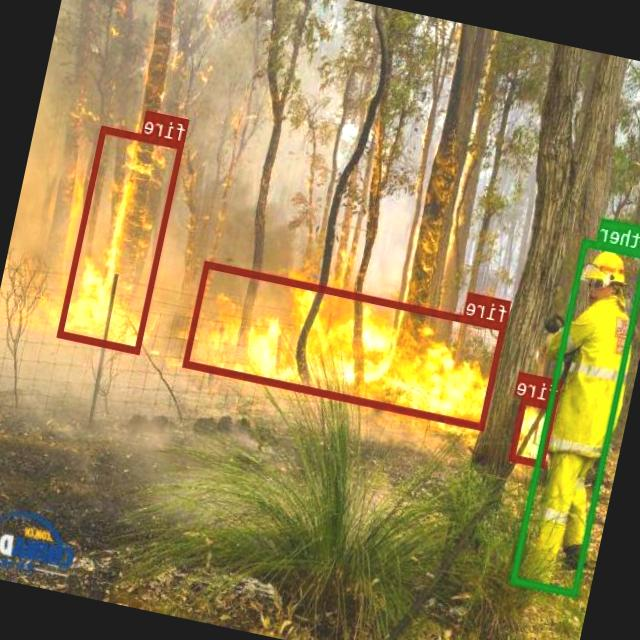fire: (184, 260, 506, 429), (58, 124, 185, 354), (510, 396, 558, 466)
